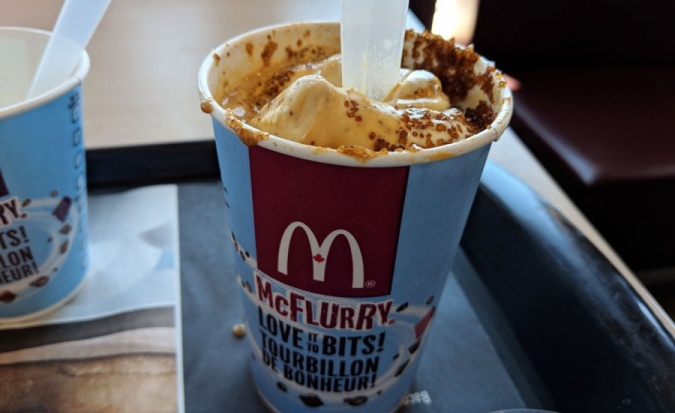mcdonalds: (270, 217, 367, 291)
